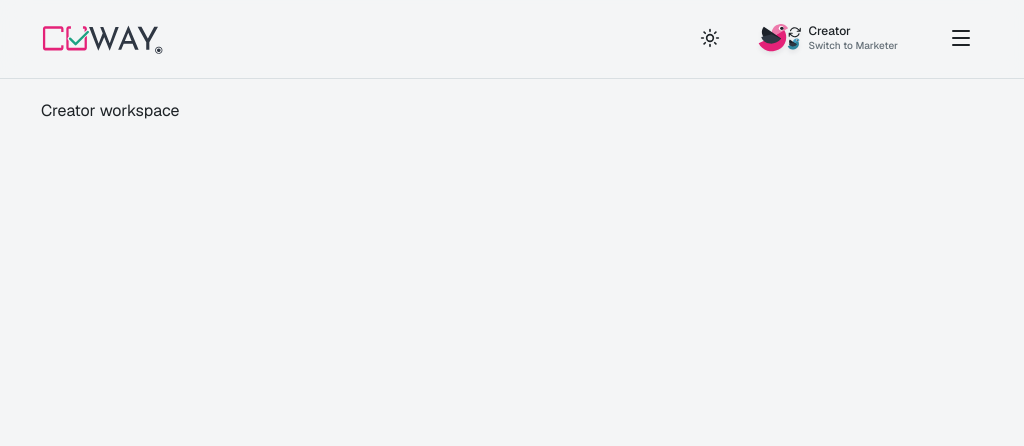
Test: CreatorShell › opens the creator menu with the current page marked
The width and height of the screenshot is (1024, 446).
Click the button named "Open navigation menu": x=961, y=38 939,16 -> 983,60
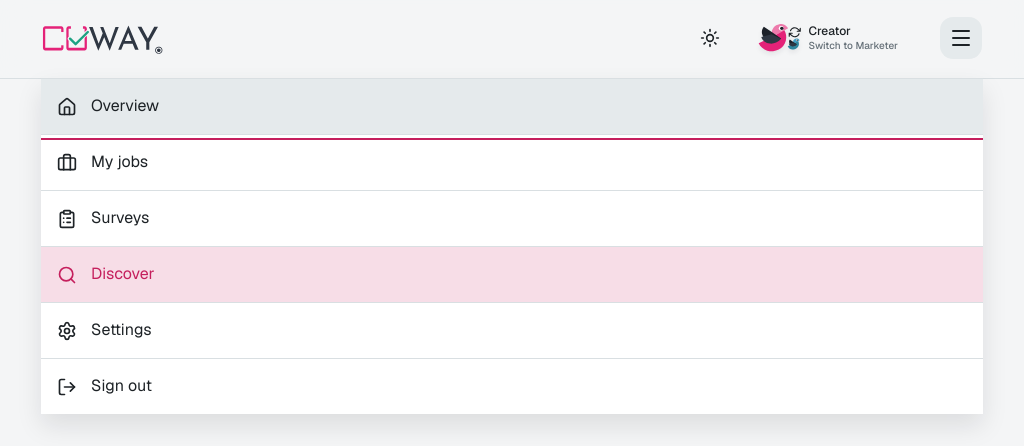
Expected: the menu item "Sign out" is shown, 41,358 -> 983,414
